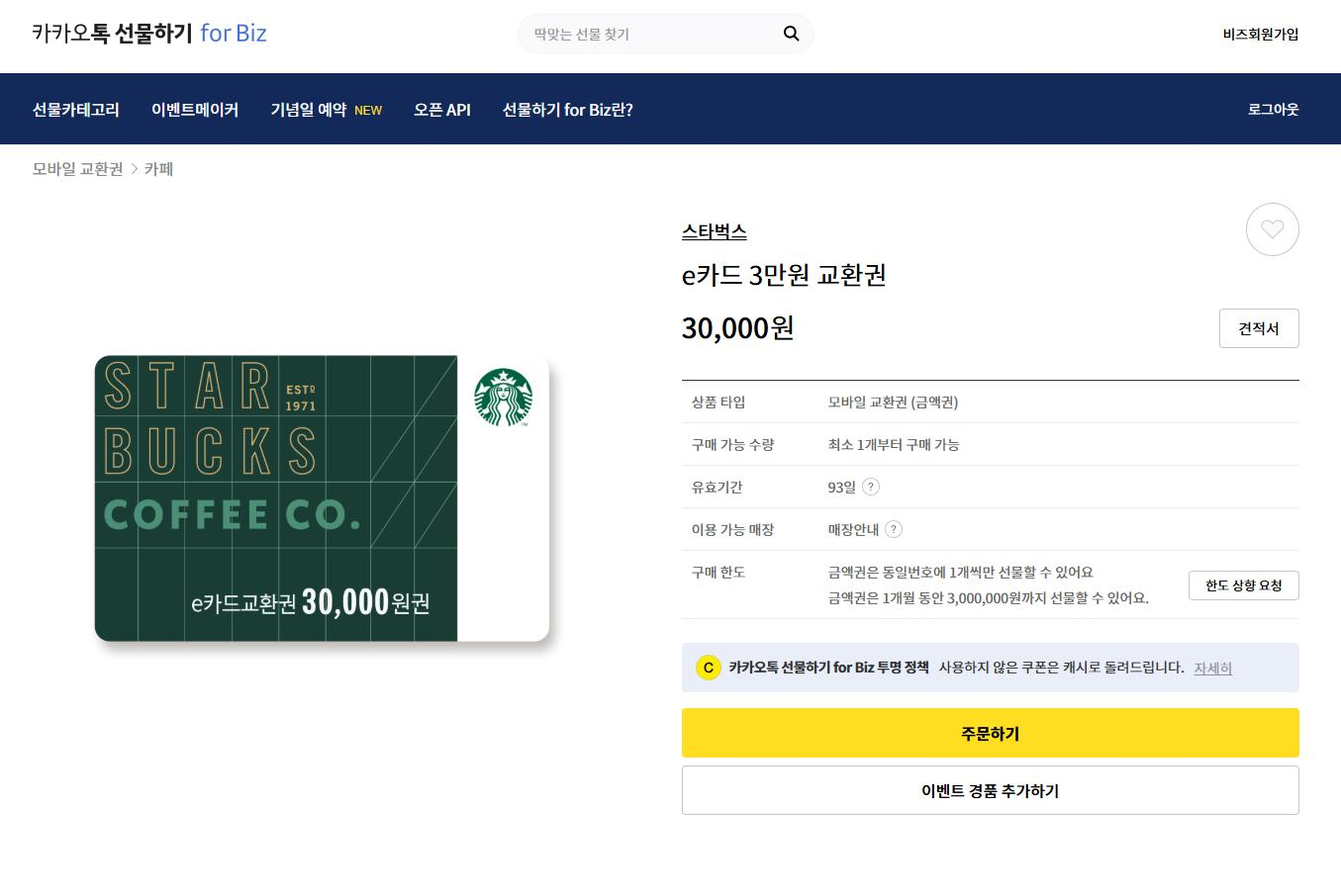button: (678, 700, 1301, 760), (680, 766, 1302, 823), (680, 641, 1299, 694), (495, 89, 647, 135), (1215, 295, 1308, 357), (1186, 567, 1316, 610), (1210, 10, 1314, 61), (260, 92, 387, 130), (1242, 198, 1308, 263), (400, 92, 486, 131), (31, 92, 123, 128), (139, 96, 245, 126), (1242, 92, 1309, 128)
input_field: (520, 16, 810, 59)
